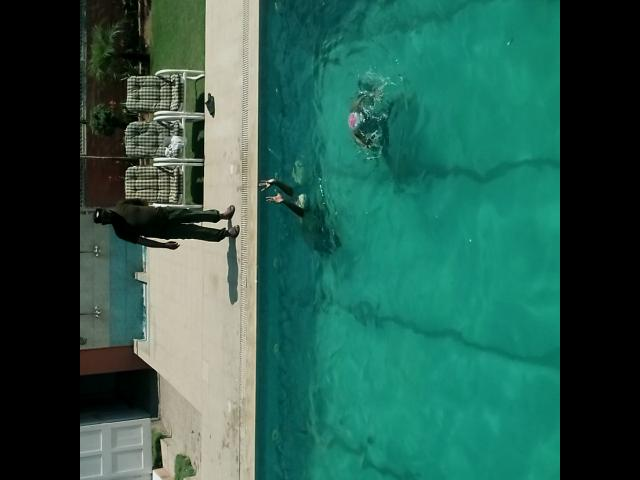drowning: (264, 167, 346, 260), (348, 66, 386, 156)
out of water: (91, 196, 247, 253)
